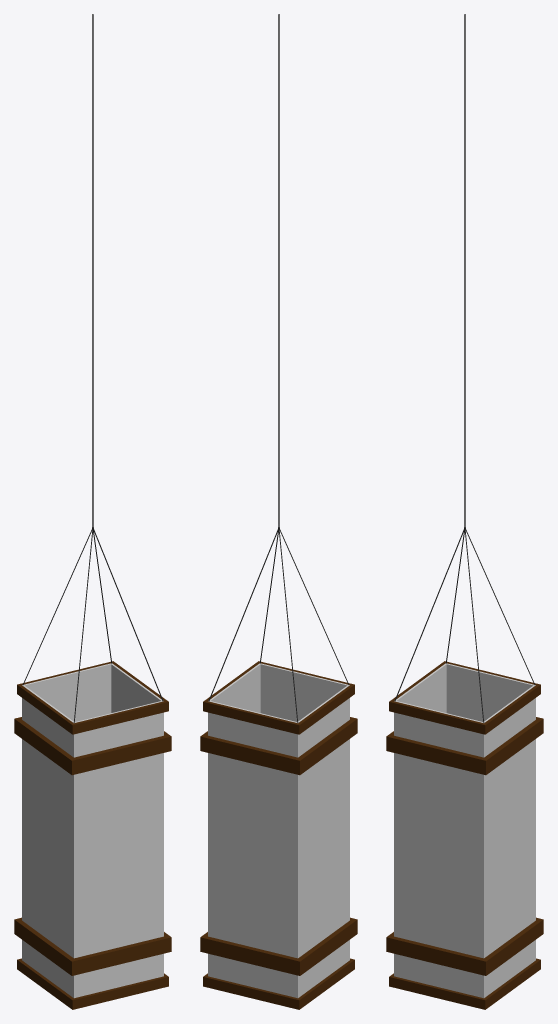
File: Большой фонарь.fbx
3 renders of one model, left to right at view 1: azimuth 30°, elevation 25°; view 2: azimuth 150°, elevation 25°; view 3: azimuth 330°, elevation 25°, orthographic.
Parts seen in each view (by area): view 1: тело, крепёжная нить; view 2: тело, крепёжная нить; view 3: тело, крепёжная нить.
Boxes of the visible parts, box(x1,y1,x2,y2) form: тело: box(14, 661, 171, 1009); крепёжная нить: box(23, 14, 163, 722); тело: box(200, 661, 357, 1009); крепёжная нить: box(208, 14, 348, 722); тело: box(386, 661, 543, 1009); крепёжная нить: box(394, 14, 534, 722).
Bounding box in the file's own units: 45.83 × 423 × 45.83.
